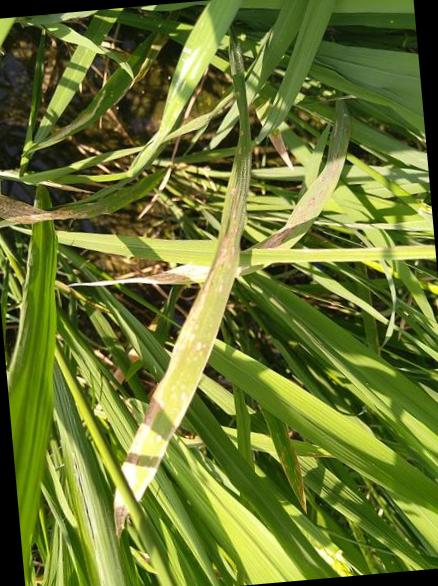Leaf Streak: (121, 69, 252, 500), (261, 98, 350, 248), (0, 169, 166, 223), (272, 417, 306, 512), (70, 264, 209, 286), (112, 490, 130, 537), (237, 263, 269, 276)
